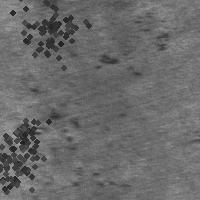rolled-in_scale: (13, 109, 125, 191), (0, 0, 92, 73), (91, 12, 169, 70), (0, 129, 51, 200), (0, 99, 53, 165)
